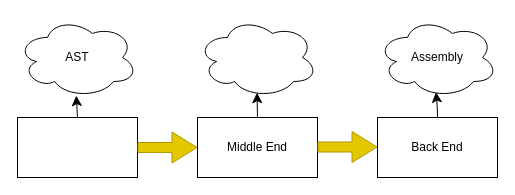
This 515x195 diagram has some shape labels left out. Each missing label, with the box of its shape:
Front End: (16, 116, 138, 178)
IR: (196, 16, 318, 98)
